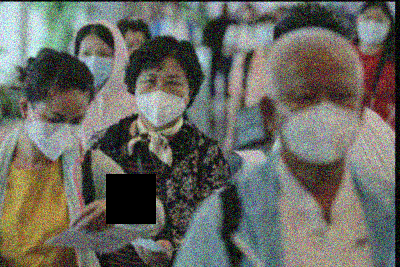with_mask: (275, 78, 361, 166), (26, 110, 88, 162), (135, 71, 190, 129), (78, 44, 114, 87), (355, 11, 389, 47)
